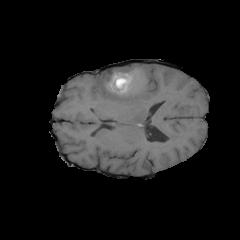glioma: (95, 64, 153, 123)
